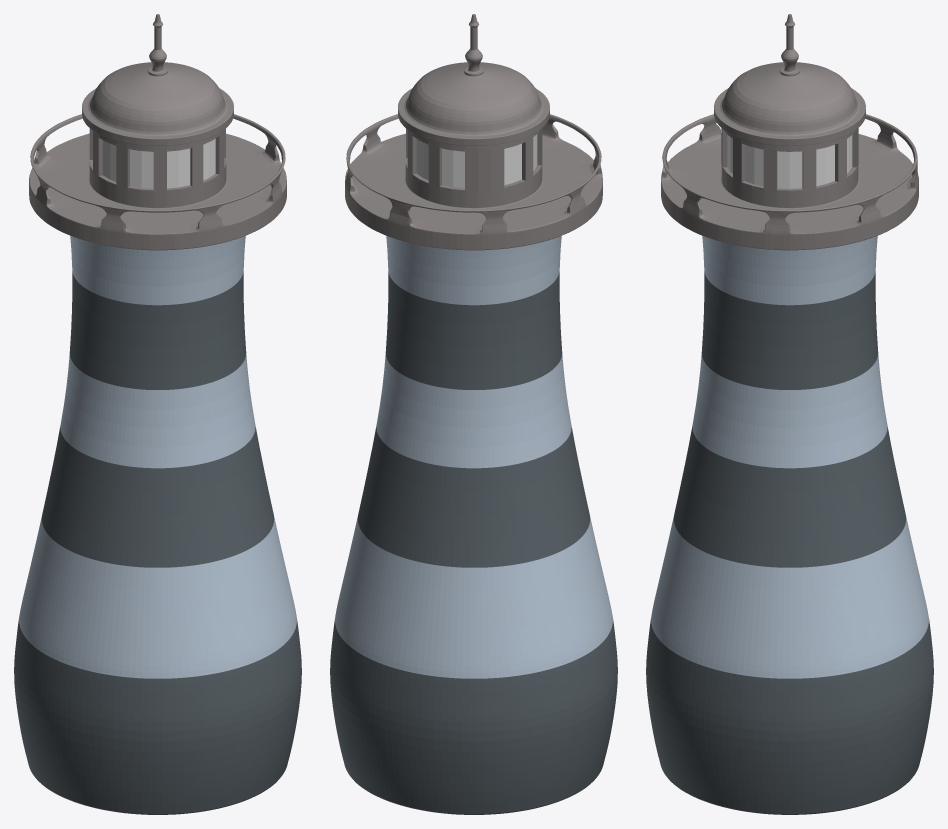
Rendered from Leuchtturm_lowpoly_2.fbx.
The picture shows the model from 3 angles, left to right: view 1: azimuth 30°, elevation 25°; view 2: azimuth 150°, elevation 25°; view 3: azimuth 270°, elevation 25°; orthographic projection.
Visible parts, largest first — view 1: Cylinder, Cylinder.001, Cylinder.002; view 2: Cylinder, Cylinder.001, Cylinder.002; view 3: Cylinder, Cylinder.001, Cylinder.002.
Boxes of the visible parts, x1,y1,x2,y2 form: Cylinder: [14, 236, 301, 814]; Cylinder.001: [29, 14, 286, 250]; Cylinder.002: [89, 128, 226, 192]; Cylinder: [330, 236, 617, 814]; Cylinder.001: [345, 14, 602, 250]; Cylinder.002: [405, 128, 542, 192]; Cylinder: [646, 236, 933, 814]; Cylinder.001: [661, 14, 918, 250]; Cylinder.002: [721, 128, 858, 192].
Size of the model in its own units: 222 by 637 by 222.
